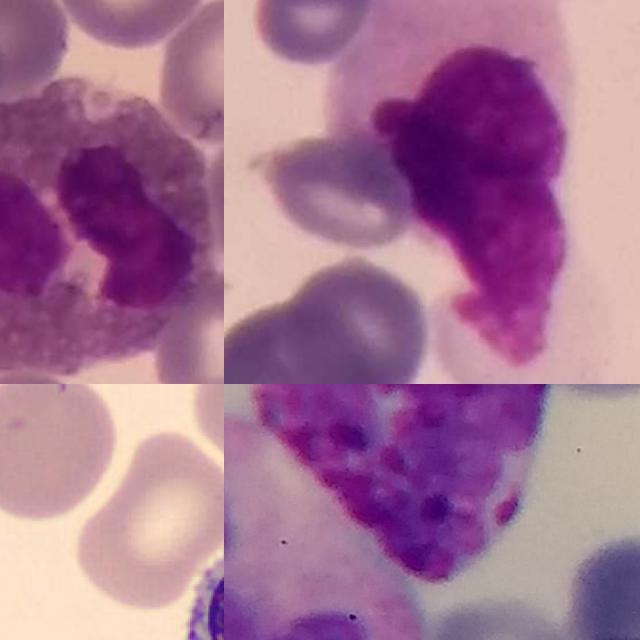Basophil: (257, 384, 560, 588)
Eosinophil: (0, 78, 217, 375)
Monocyte: (339, 0, 610, 384)
Neutrophil: (224, 414, 428, 640)
RBC: (67, 425, 224, 613), (0, 384, 124, 526)
